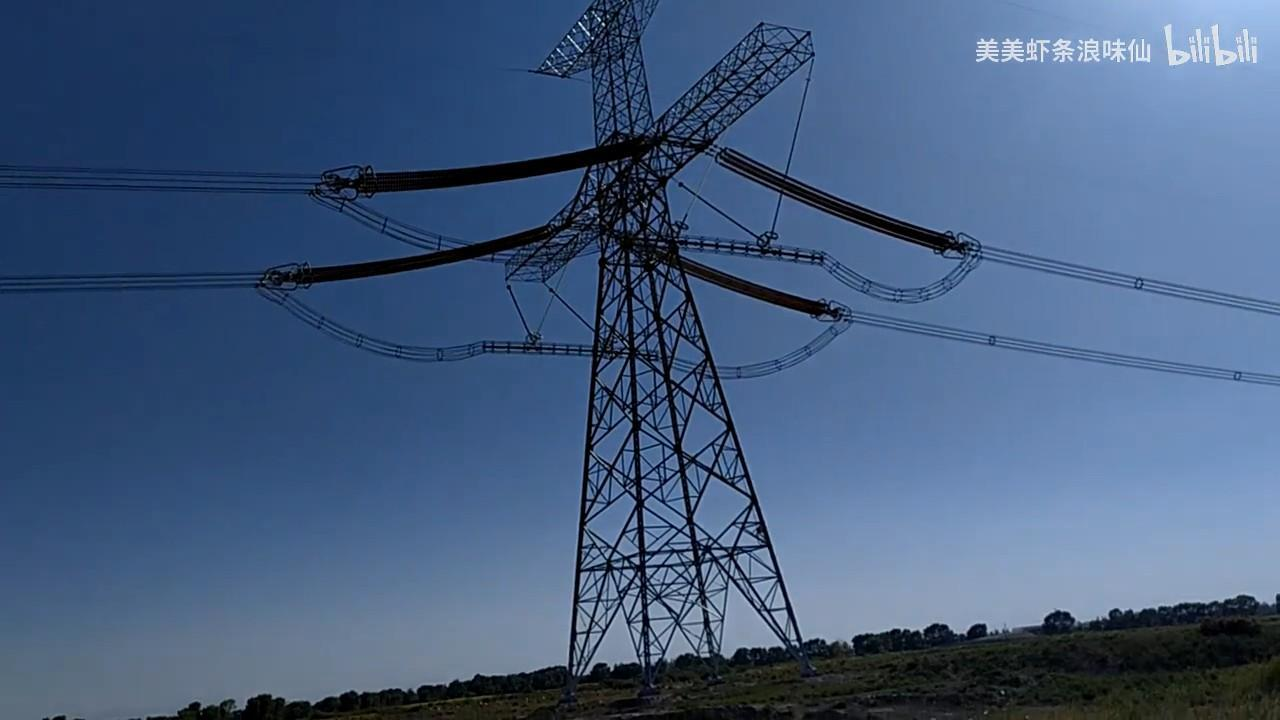power_tower: (252, 0, 979, 643)
